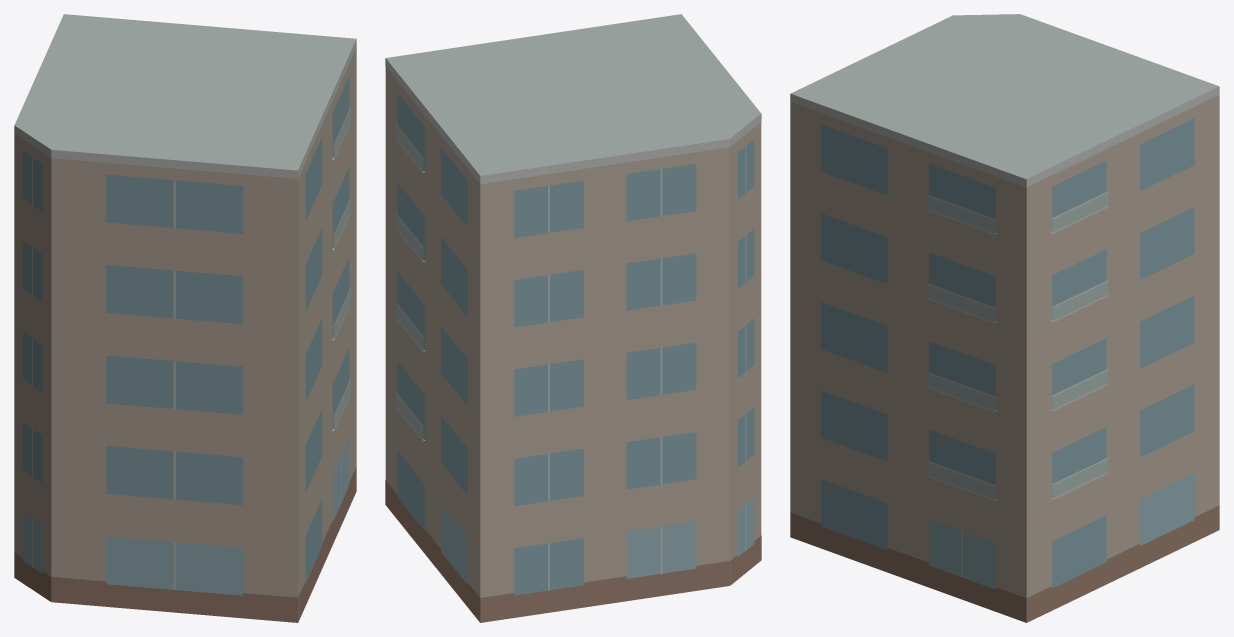
The model's file is survey-upis-32568481.glb.
The picture shows the model from 3 angles, left to right: view 1: azimuth 30°, elevation 25°; view 2: azimuth 150°, elevation 25°; view 3: azimuth 270°, elevation 25°; orthographic projection.
Parts seen in each view (by area): view 1: survey-upis-32568481.tmp; view 2: survey-upis-32568481.tmp; view 3: survey-upis-32568481.tmp.
Boxes of the visible parts, x1,y1,x2,y2 form: survey-upis-32568481.tmp: (14, 14, 356, 622); survey-upis-32568481.tmp: (385, 14, 761, 622); survey-upis-32568481.tmp: (790, 14, 1219, 622).
Size of the model in its own units: 10.56 by 13.2 by 11.59.
